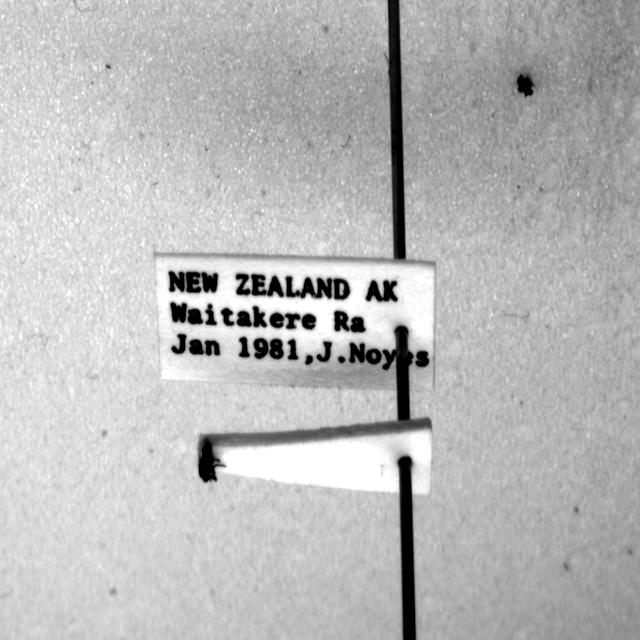typed_label: (155, 255, 435, 390)
